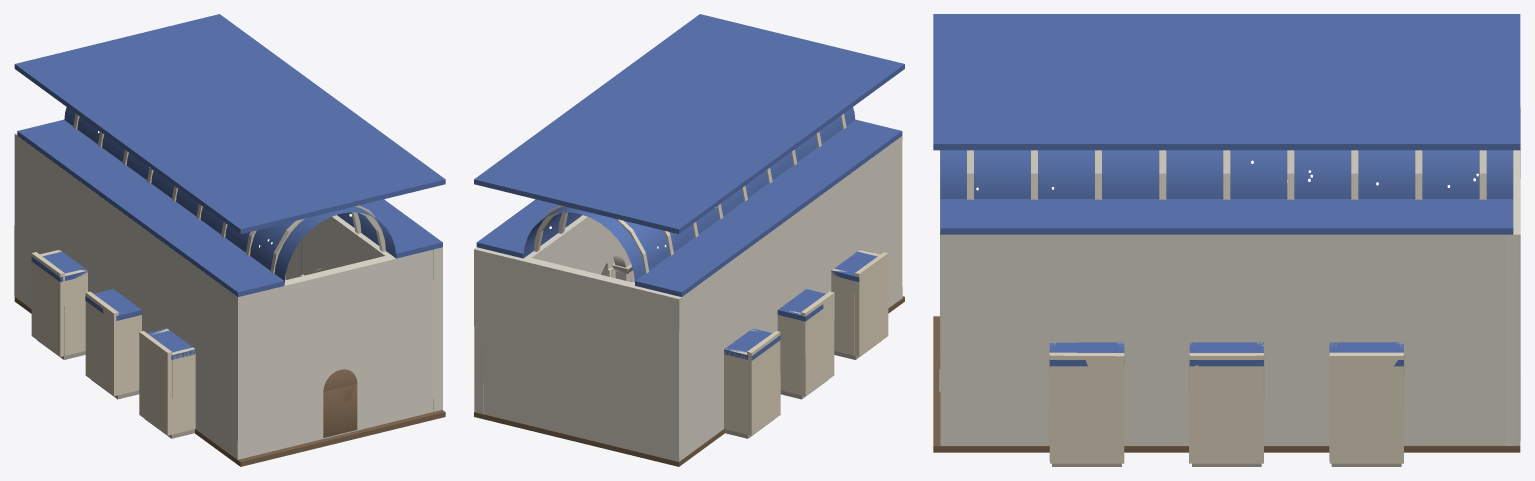
The model's file is int_church.glb.
The picture shows the model from 3 angles, left to right: view 1: azimuth 30°, elevation 25°; view 2: azimuth 150°, elevation 25°; view 3: azimuth 270°, elevation 25°; orthographic projection. The views are drawn at different scales.
Visible parts, largest first — view 1: int_church; view 2: int_church; view 3: int_church.
Part boxes in pixels (x1=…): int_church: x1=14, y1=14, x2=445, y2=466; int_church: x1=474, y1=14, x2=904, y2=466; int_church: x1=933, y1=14, x2=1520, y2=466.
Size of what is drawn, in the model's own units: 16.83 by 14.62 by 25.22.
